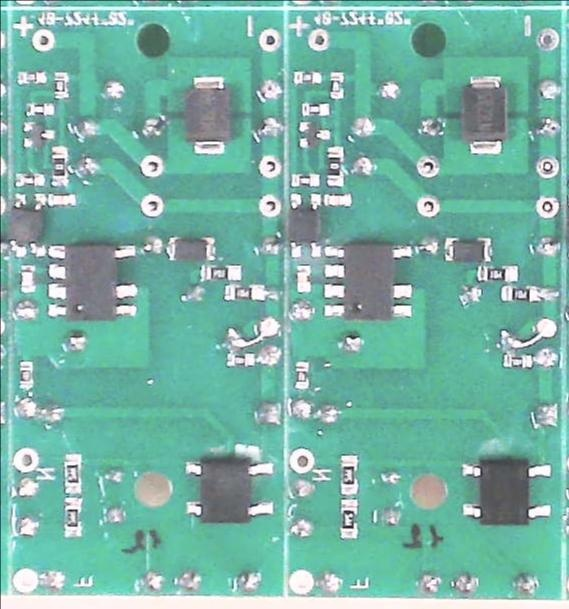chip-capacitor: (294, 264, 313, 295), (46, 191, 78, 208), (19, 263, 36, 294), (323, 191, 354, 208)
chip-resistor: (60, 495, 83, 539), (338, 453, 360, 497), (198, 263, 245, 283), (49, 144, 70, 188), (473, 263, 519, 283), (62, 452, 83, 495), (338, 499, 360, 540), (222, 283, 266, 303), (325, 144, 345, 188), (500, 284, 543, 303), (15, 69, 49, 87), (292, 360, 311, 392), (16, 359, 34, 391), (300, 100, 332, 118), (291, 69, 323, 87), (327, 70, 346, 100), (22, 102, 55, 119), (224, 351, 255, 369), (499, 353, 533, 369), (53, 70, 70, 100), (289, 172, 319, 188), (14, 173, 45, 188)
diode: (182, 73, 234, 158), (459, 72, 508, 157), (440, 235, 494, 265), (164, 234, 219, 262)
ic: (322, 238, 416, 323), (45, 240, 138, 322), (459, 457, 553, 529), (183, 458, 275, 526), (9, 191, 47, 258), (287, 191, 322, 260)
transistor: (296, 120, 332, 151), (21, 121, 55, 149)
